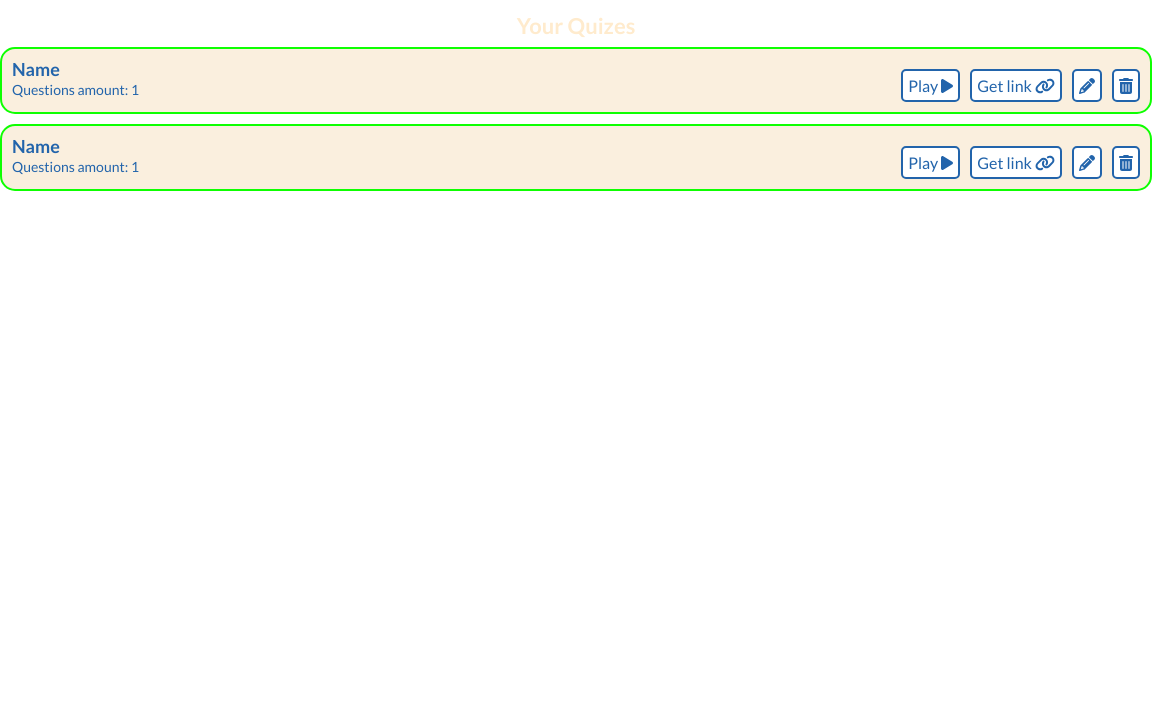
Test case: edit modal tests › should add and delete wrong answers
This screenshot has width=1152, height=720.
Click the 1st button with test id "edit-btn".
click(1087, 86)  # box left=1072, top=69, right=1102, bottom=102
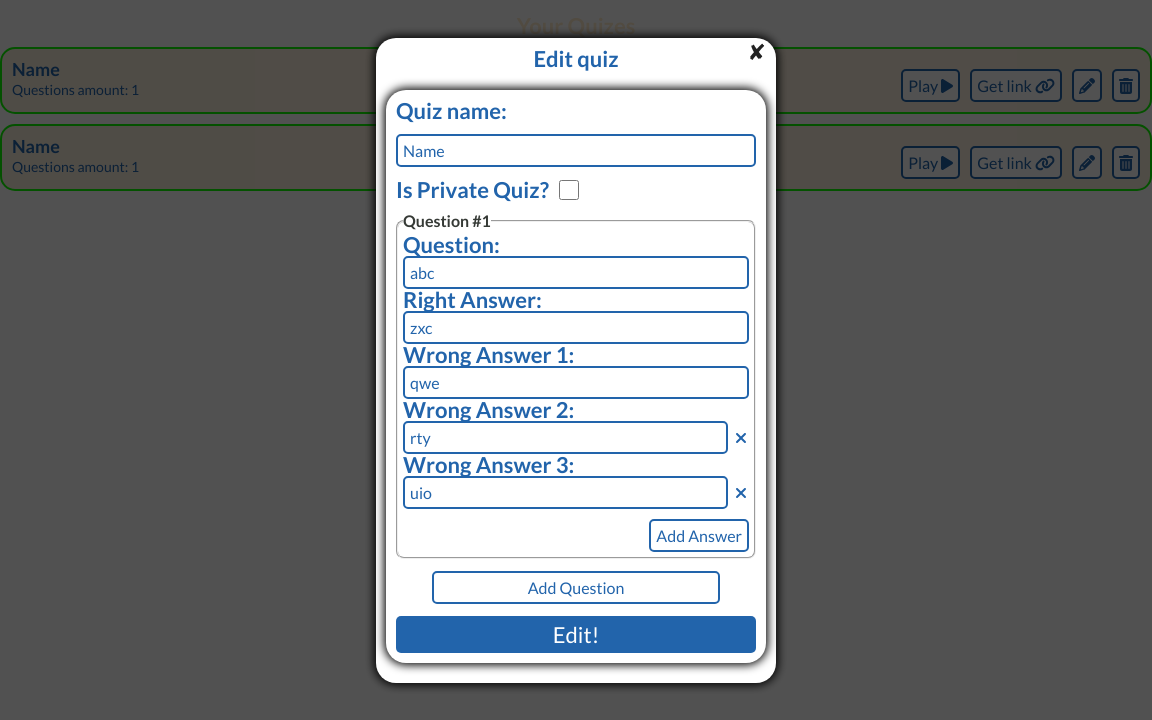
Click the button with test id "add-wrong-item".
click(699, 535)  # box left=649, top=518, right=749, bottom=552
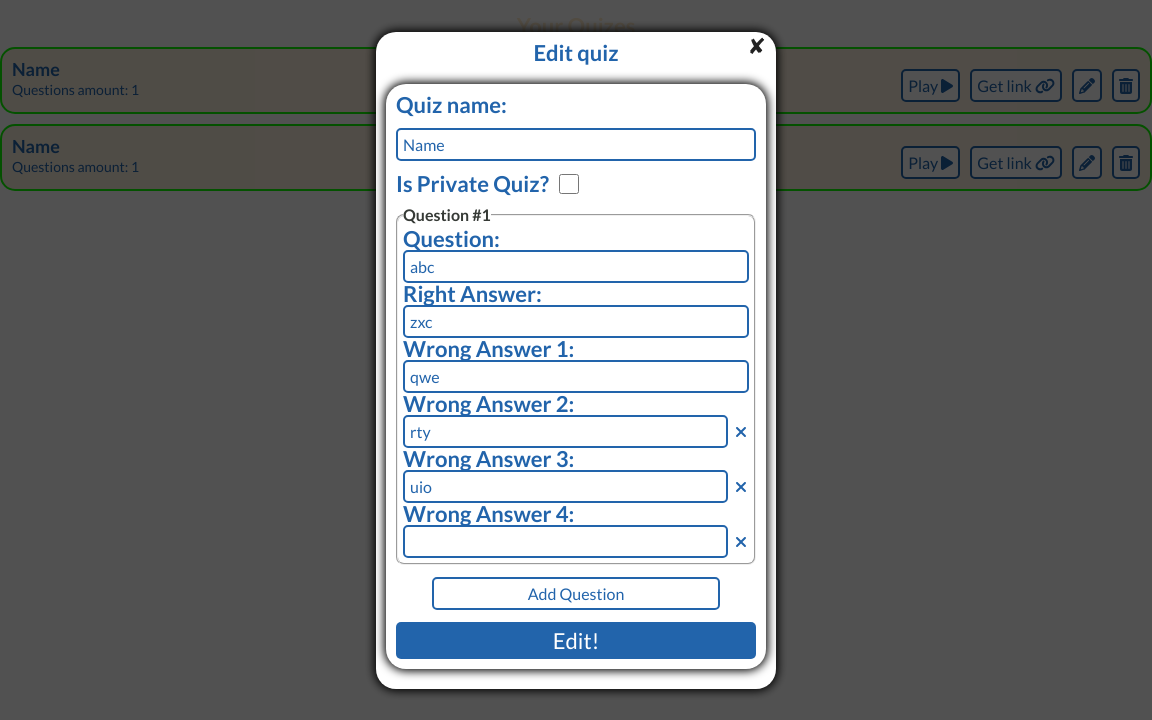
Now the number of elements with test id "wrong-answer" is 4, box left=403, top=338, right=749, bottom=392; left=403, top=392, right=749, bottom=448; left=403, top=448, right=749, bottom=502; left=403, top=502, right=749, bottom=558
Click the 1st button with test id "delete-answer-btn".
click(741, 431)  # box left=733, top=420, right=749, bottom=442
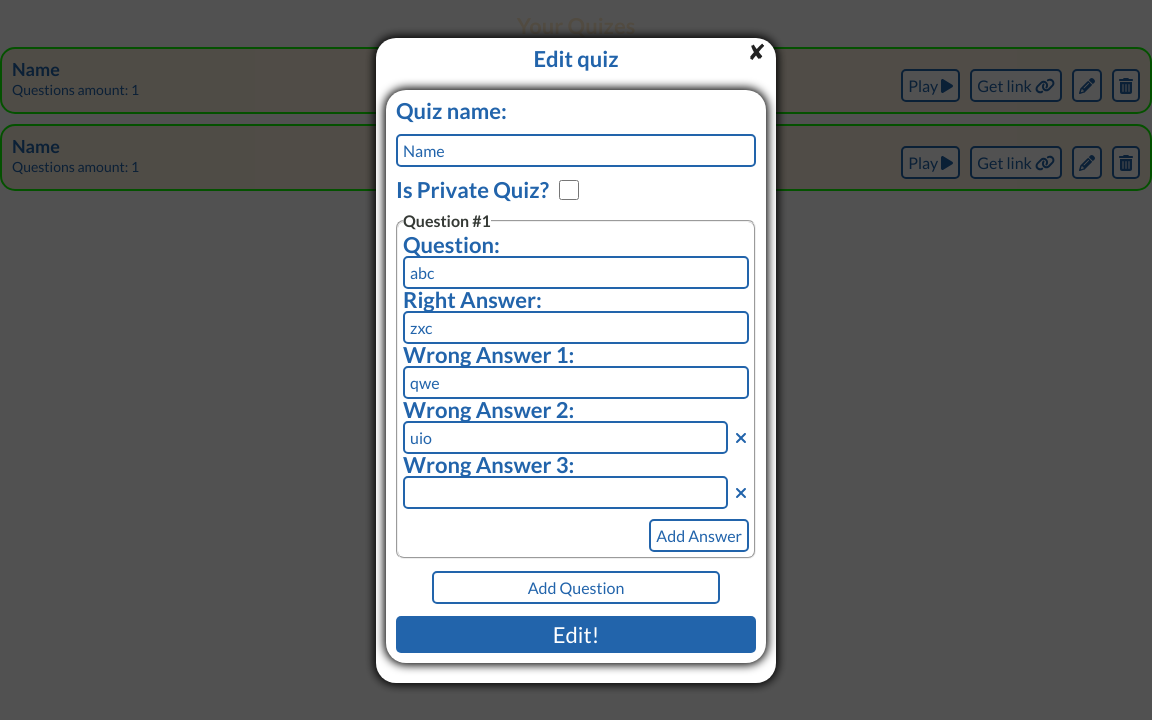
Now the number of elements with test id "wrong-answer" is 3, box left=403, top=344, right=749, bottom=398; left=403, top=398, right=749, bottom=454; left=403, top=454, right=749, bottom=508
